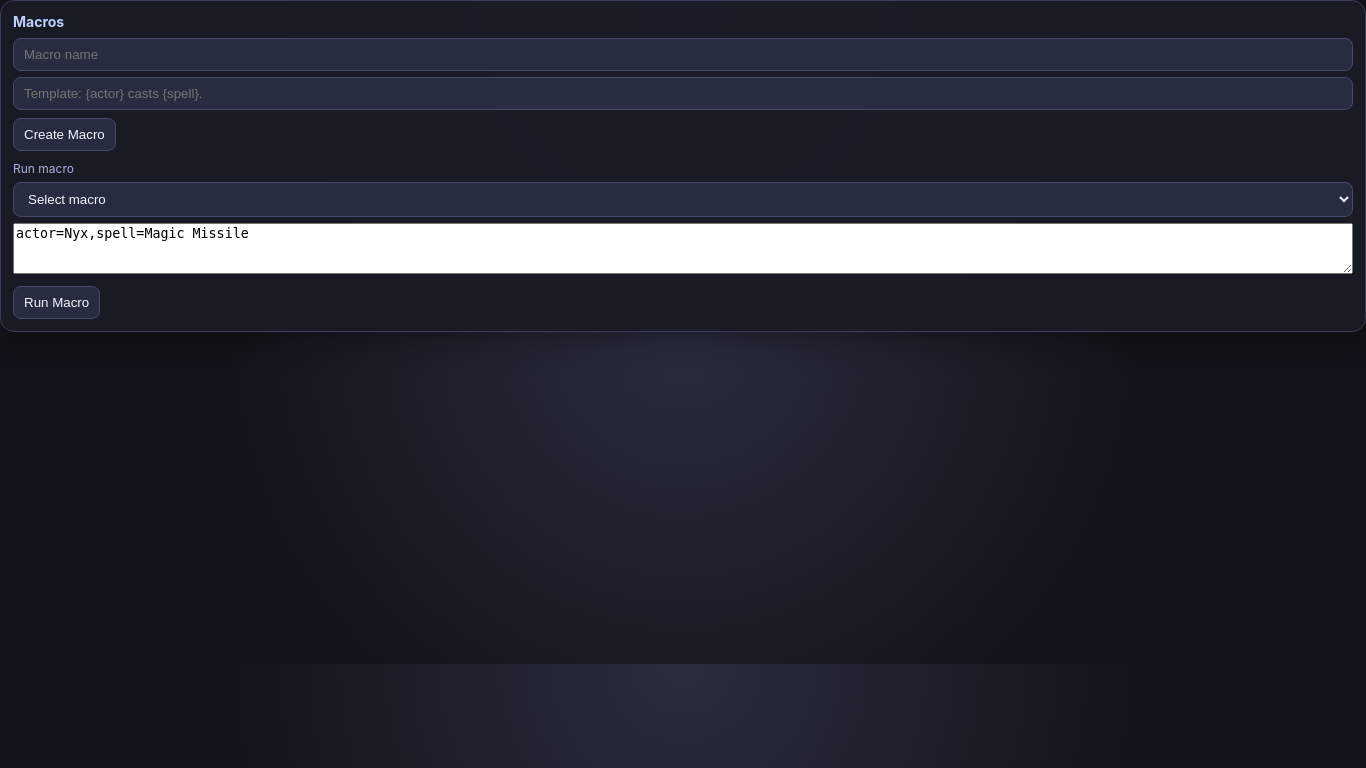
Test: Phase 4 panels › shows backend failure feedback when macro run fails
Select "Cast" in the dropdown. click: (683, 200)
box: left=13, top=182, right=1353, bottom=217
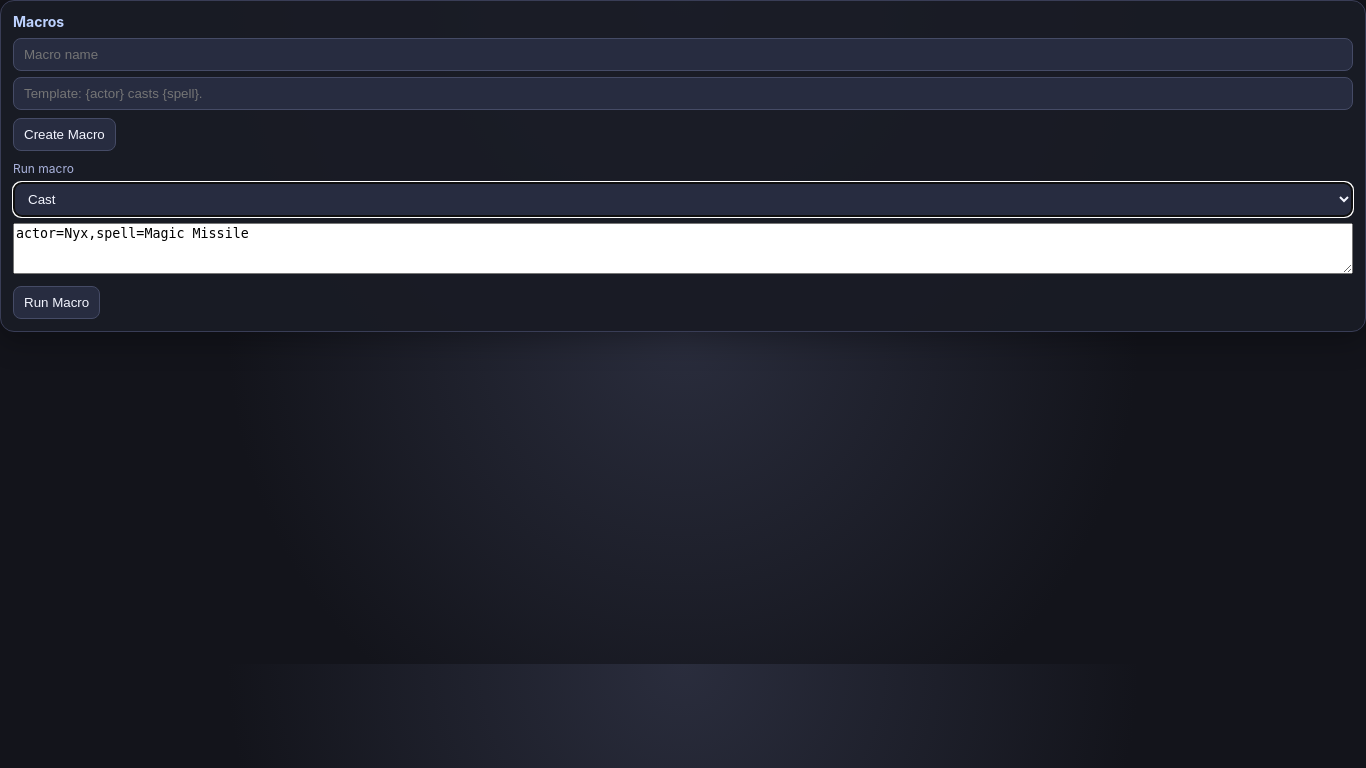
Click the button "Run Macro". click: (57, 302)
box: left=13, top=286, right=100, bottom=319
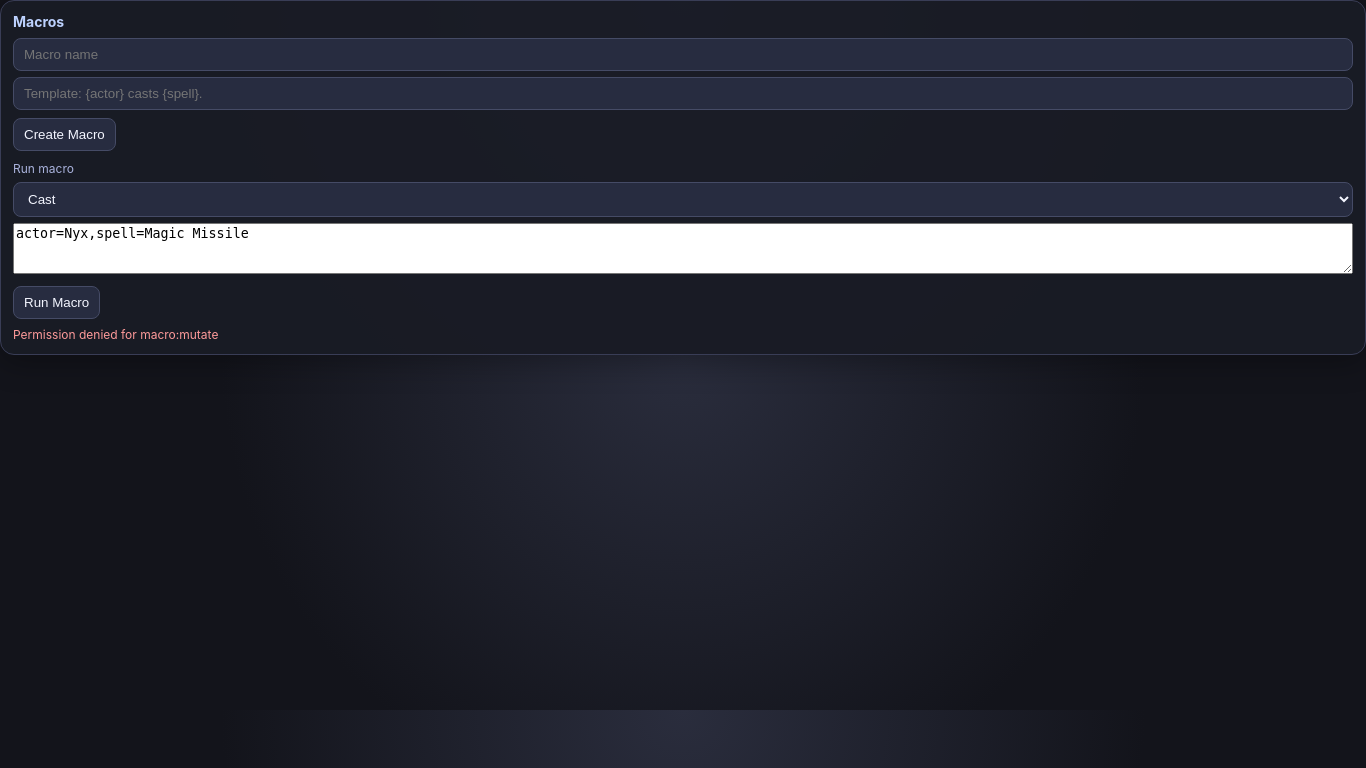
Expected: the text "Permission denied for macro:mutate" is shown, left=13, top=327, right=218, bottom=342
